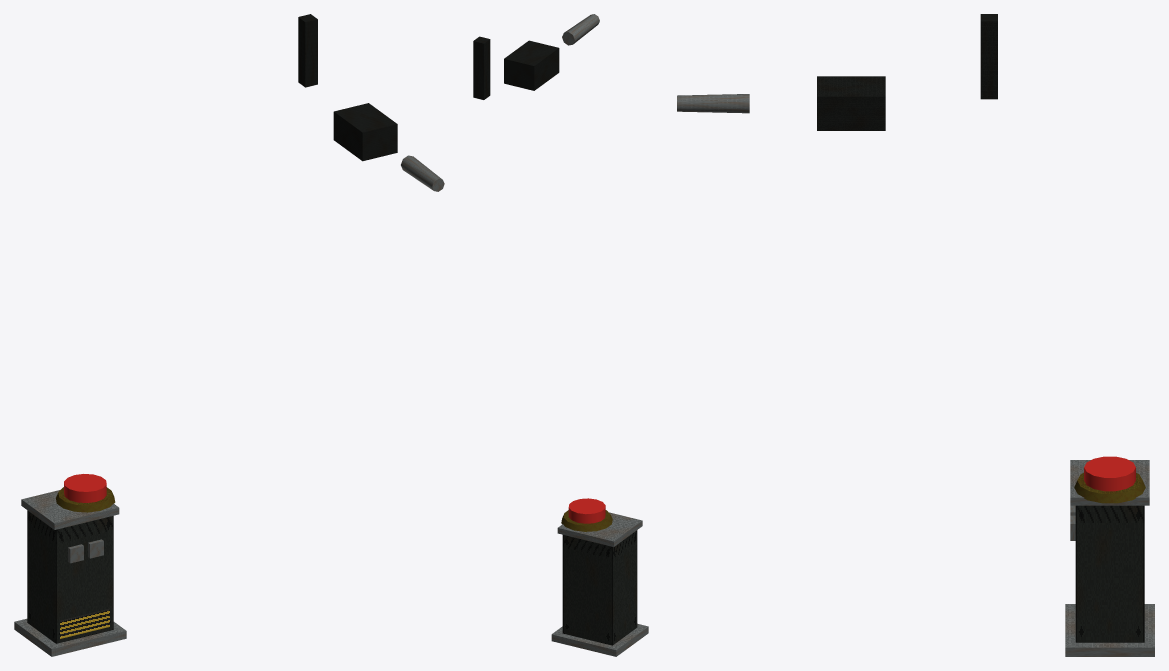
Rendered from quickdraw.glb.
3 views of the same model, side by side, from view 1: azimuth 30°, elevation 25°; view 2: azimuth 150°, elevation 25°; view 3: azimuth 270°, elevation 25° (orthographic). The views are drawn at different scales.
Parts seen in each view (by area): view 1: pedestal, gun_body, gun_mount, button, gun_barrel; view 2: pedestal, gun_body, gun_mount, button, gun_barrel; view 3: pedestal, gun_body, button, gun_mount, gun_barrel.
Part boxes in pixels (<box>): pedestal: <box>14,487,126,656</box>; gun_body: <box>333,103,397,161</box>; gun_mount: <box>298,14,317,87</box>; button: <box>64,474,106,502</box>; gun_barrel: <box>401,155,444,191</box>; pedestal: <box>551,510,648,656</box>; gun_body: <box>504,40,559,90</box>; gun_mount: <box>473,36,490,99</box>; button: <box>568,498,605,523</box>; gun_barrel: <box>562,14,599,45</box>; pedestal: <box>1065,460,1154,656</box>; gun_body: <box>817,76,885,130</box>; button: <box>1084,456,1135,491</box>; gun_mount: <box>980,14,997,99</box>; gun_barrel: <box>677,94,749,113</box>.
Size of the model in its own units: 1.94 by 4.65 by 2.77.
7 materials, 6 textured.
